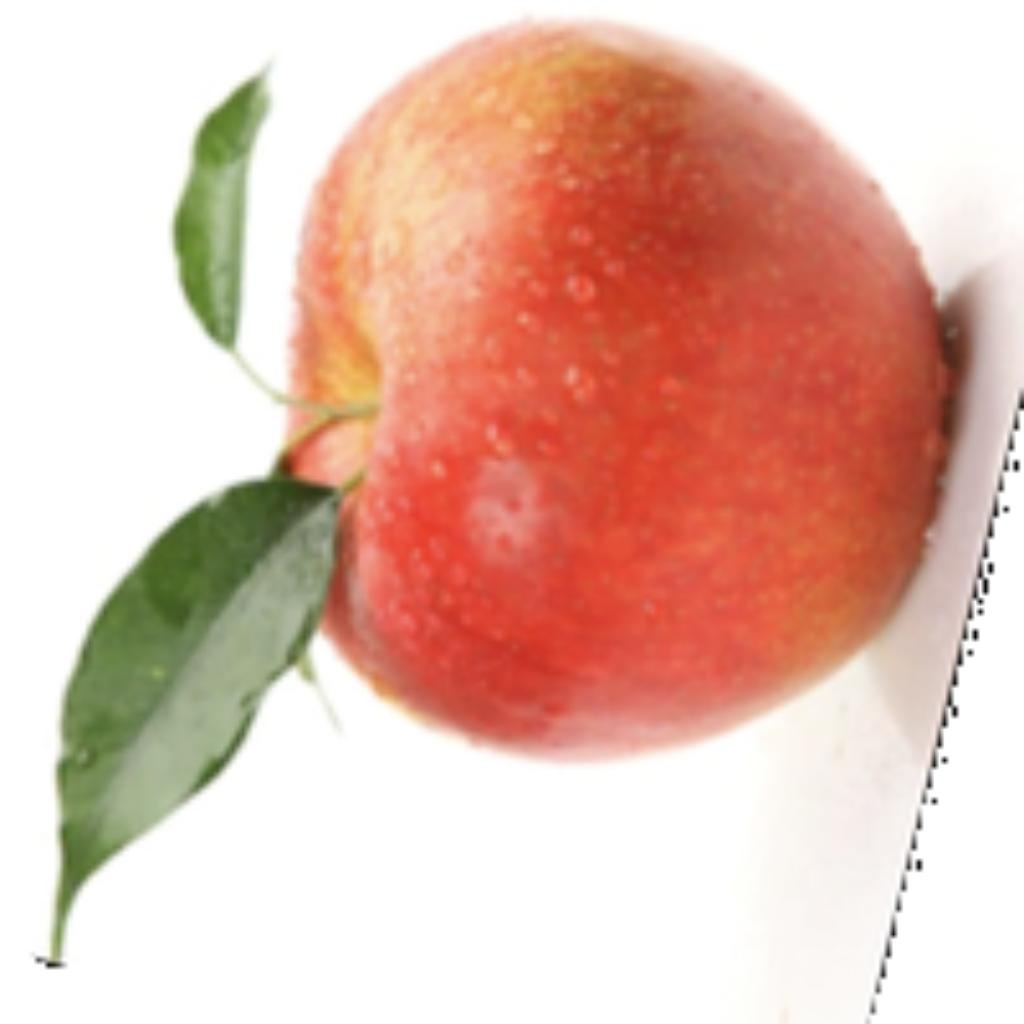apple: (26, 5, 1019, 968)
